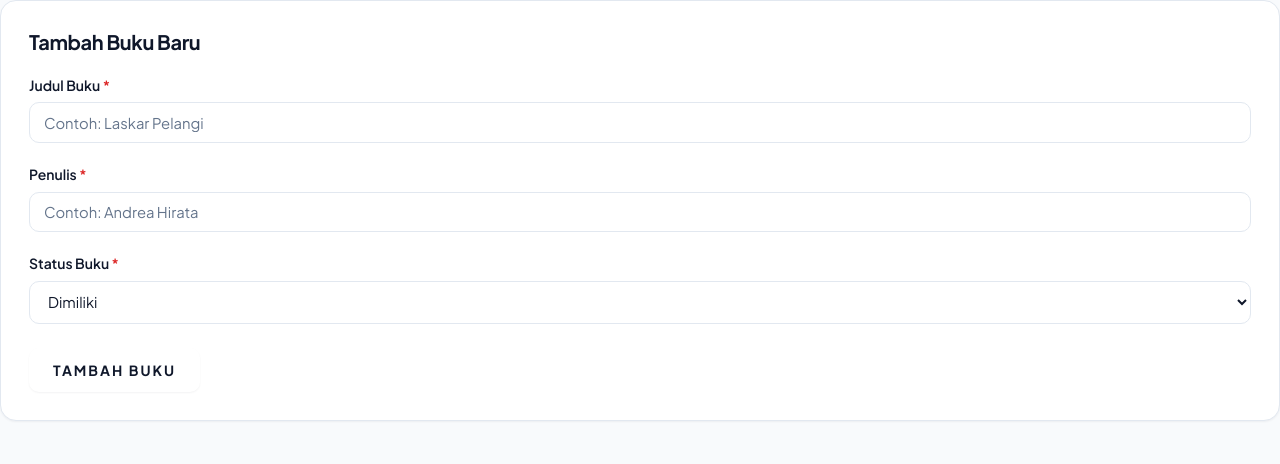
Test case: Komponen BookForm › menolak submit dan menampilkan pesan error ketika judul buku kosong
// Isi penulis tetapi biarkan judul kosong
In the field labelled "Penulis *": (640, 212) [29, 192, 1251, 232], type "Andrea Hirata"
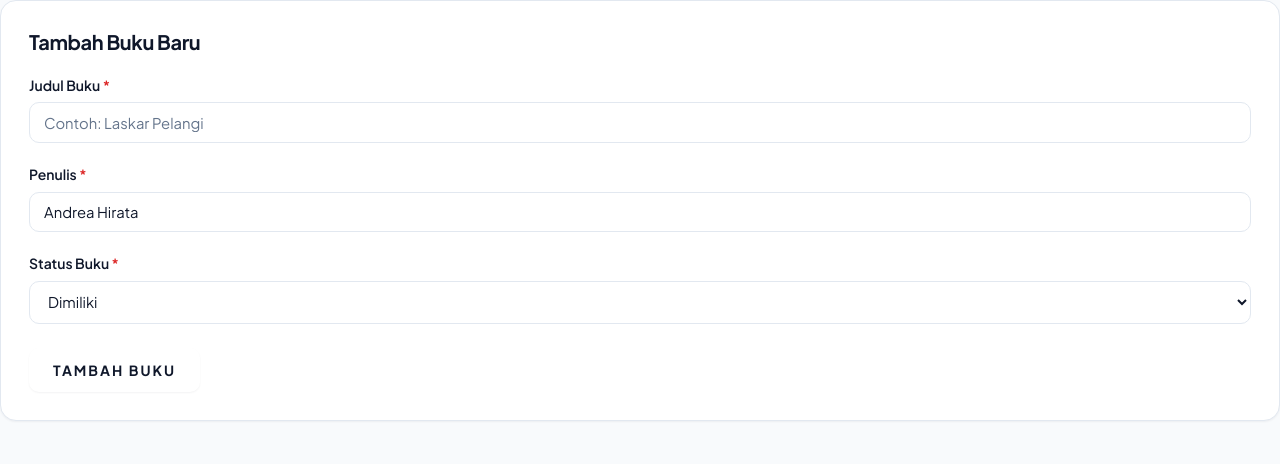
Click the button "Tambah Buku": (114, 370) [29, 348, 200, 392]
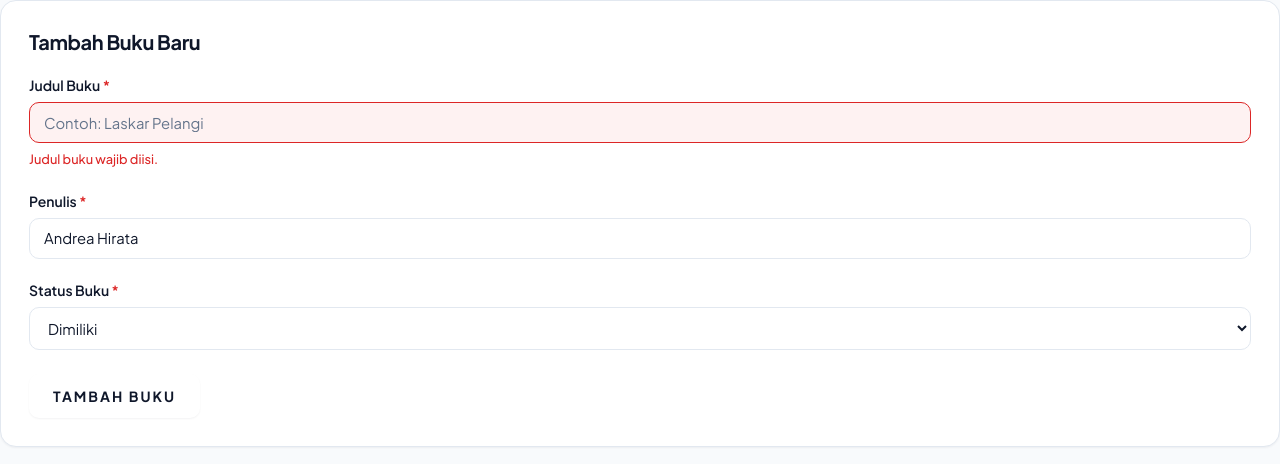
Expected: the text "Judul buku wajib diisi." is shown, [29, 151, 158, 167]
